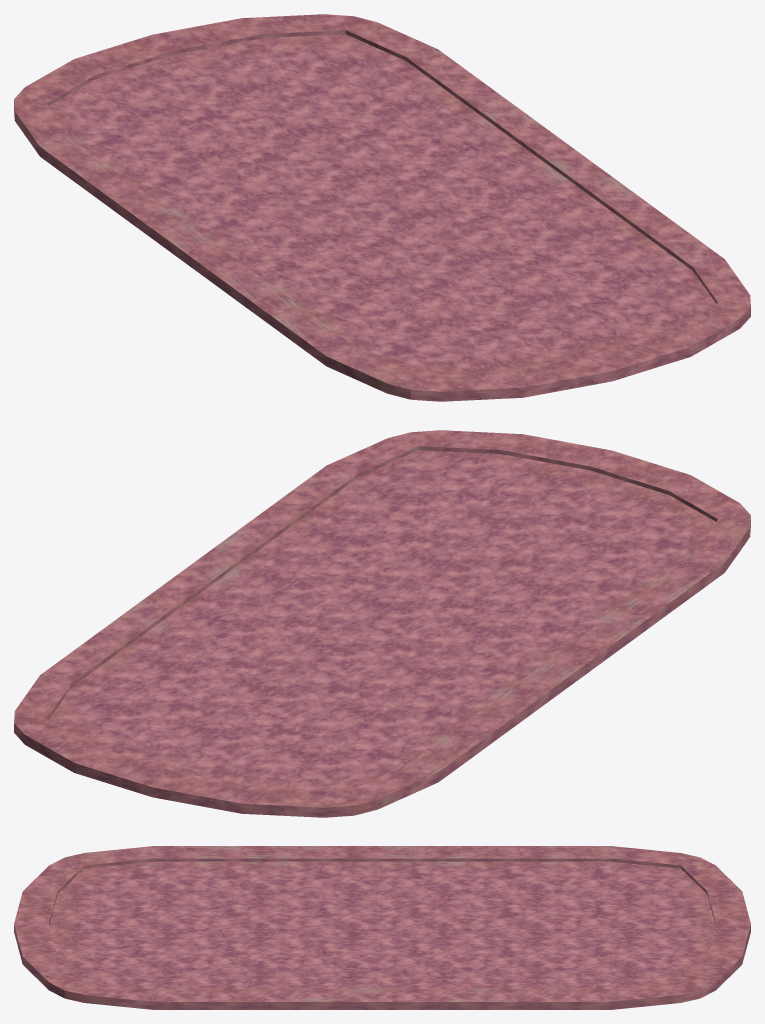
The model's file is SM_Bathroom_Carpet.fbx.
The picture shows the model from 3 angles, top to bottom: view 1: azimuth 30°, elevation 25°; view 2: azimuth 150°, elevation 25°; view 3: azimuth 270°, elevation 25°; orthographic projection. The views are drawn at different scales.
Visible parts, largest first — view 1: Carpet; view 2: Carpet; view 3: Carpet.
Part boxes in pixels (<box>): Carpet: <box>14,14,750,401</box>; Carpet: <box>14,430,750,817</box>; Carpet: <box>14,846,750,1009</box>.
Bounding box in the file's own units: 100 × 2.41 × 200.
